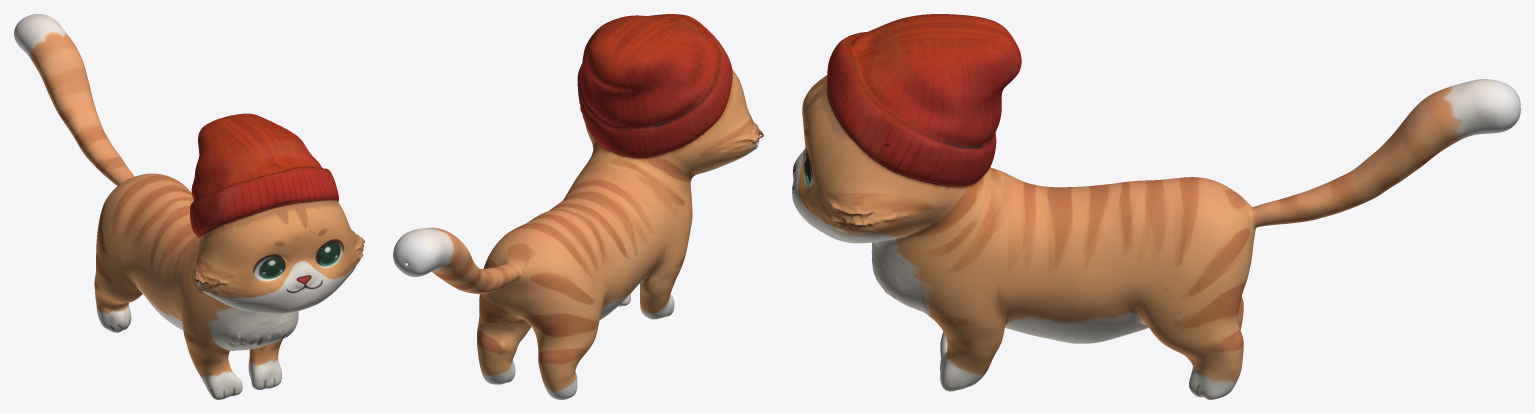
The model's file is Meshy_AI_Cat_Beanie_0619195523_texture.glb.
3 renders of one model, left to right at view 1: azimuth 30°, elevation 25°; view 2: azimuth 150°, elevation 25°; view 3: azimuth 270°, elevation 25°, orthographic. The views are drawn at different scales.
Size of the model in its own units: 0.688 by 1.06 by 2.
1 material, 1 textured.
